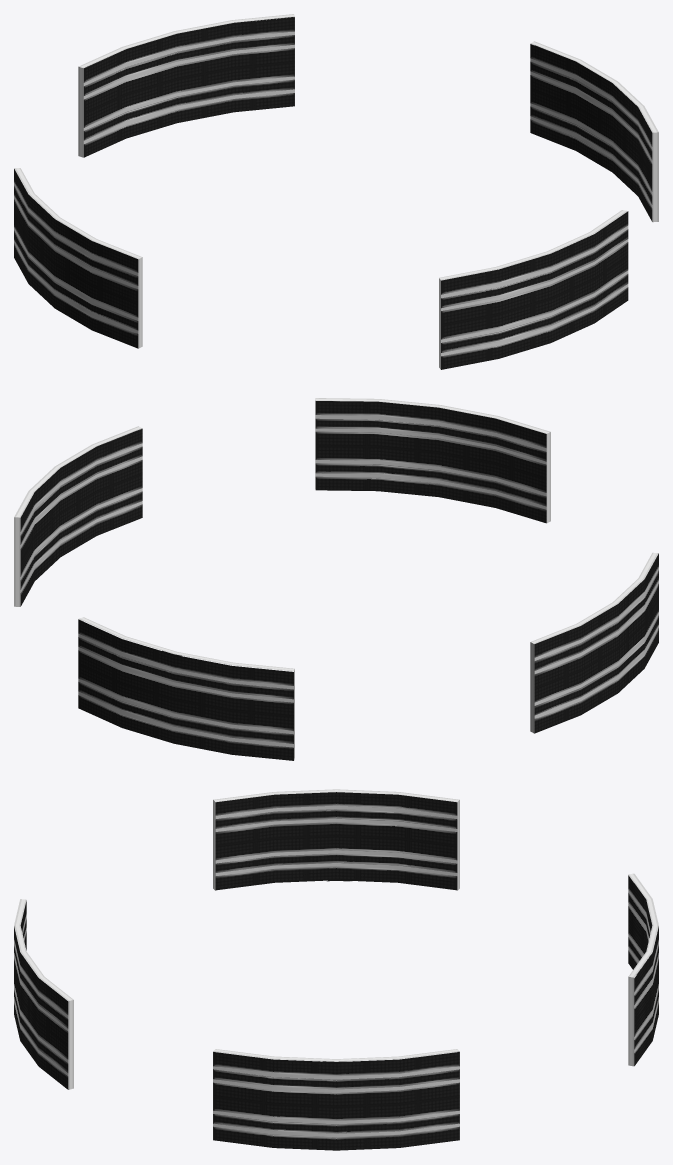
The model's file is Murs.fbx.
3 views of the same model, one above another, from view 1: azimuth 30°, elevation 25°; view 2: azimuth 150°, elevation 25°; view 3: azimuth 270°, elevation 25° (orthographic).
Visible parts, largest first — view 1: Murs; view 2: Murs; view 3: Murs.
Boxes of the visible parts, bbox=[...] form: Murs: bbox=[14, 14, 658, 369]; Murs: bbox=[14, 398, 658, 760]; Murs: bbox=[14, 789, 658, 1150].
Size of the model in its own units: 16203 by 2460 by 16203.
3 materials, 2 textured.
